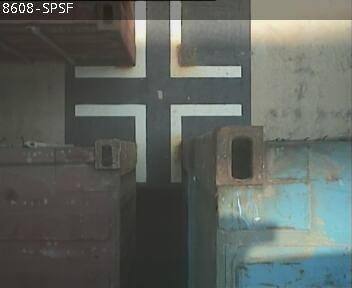groundmarker_1: (73, 104, 242, 181), (72, 1, 242, 77)
